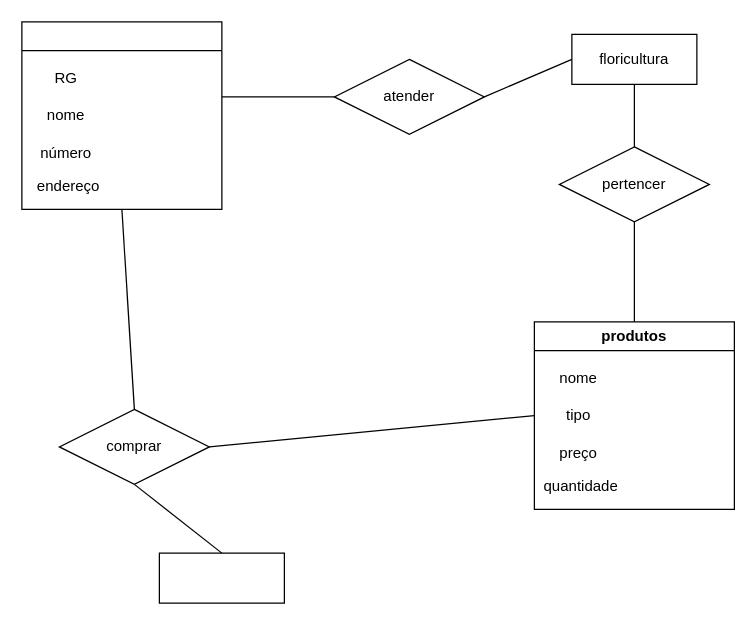
The diagram is 756 pixels wide and 625 high, and some of its shapes have lost their labels. Here are the shapes that lost their labels. From the top down, the box of each, then its label:
(21, 21, 222, 209): cliente
(158, 552, 284, 603): data
